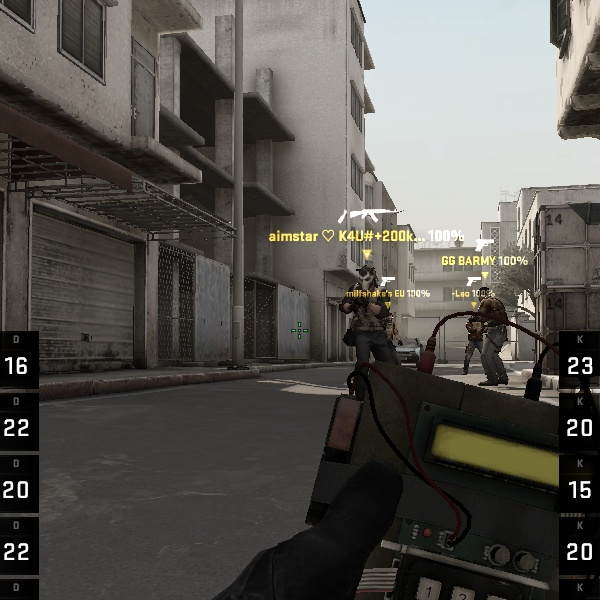t_body: (330, 262, 417, 394), (449, 279, 517, 385)
t_head: (350, 260, 387, 296)
